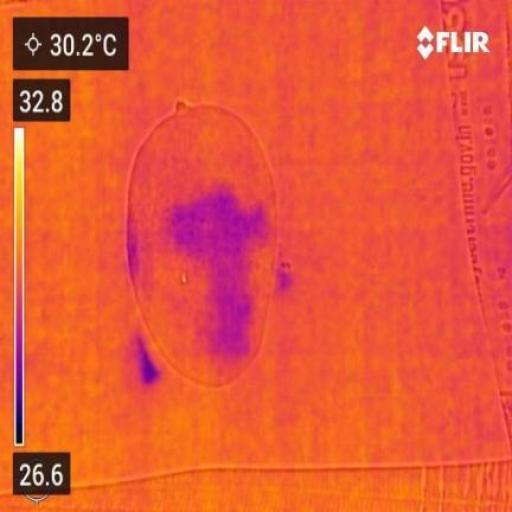alphanso: (126, 104, 274, 386)
